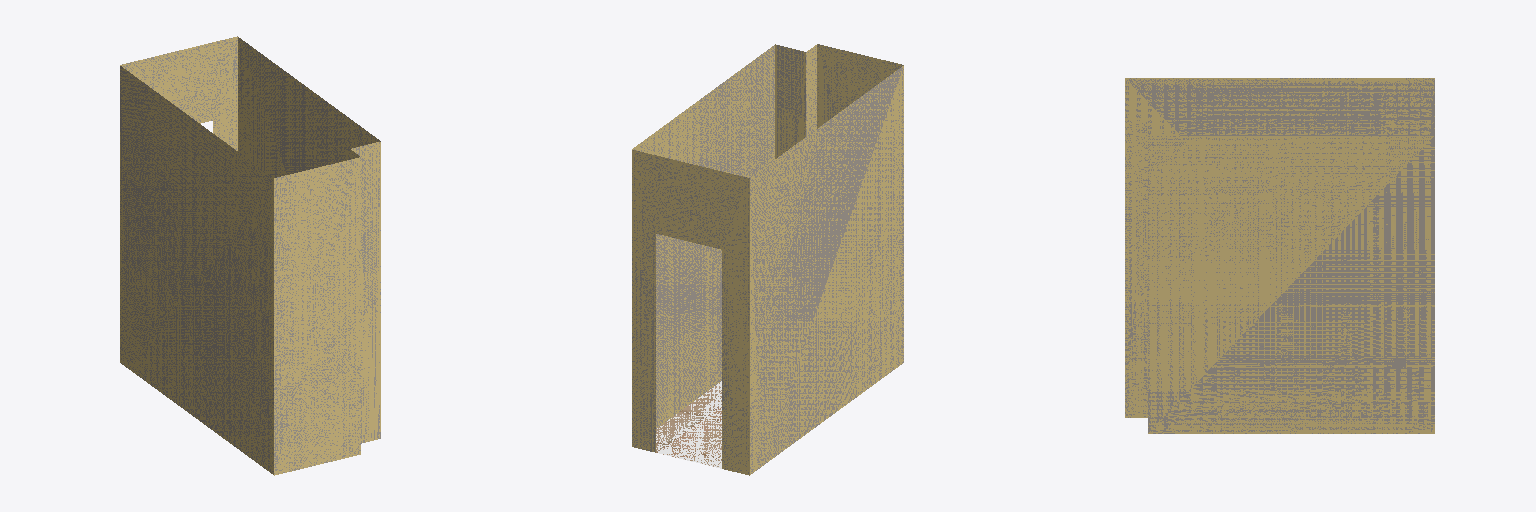
3 renders of one model, left to right at view 1: azimuth 30°, elevation 25°; view 2: azimuth 150°, elevation 25°; view 3: azimuth 270°, elevation 25°, orthographic.
Parts seen in each view (by area): view 1: Mesh1 CUA024 Model; view 2: Mesh1 CUA024 Model; view 3: Mesh1 CUA024 Model.
Boxes of the visible parts, box(x1,y1,x2,y2) form: Mesh1 CUA024 Model: box(120, 36, 380, 475); Mesh1 CUA024 Model: box(632, 44, 903, 475); Mesh1 CUA024 Model: box(1125, 78, 1434, 433).
Bounding box in the file's own units: 1.23 × 2.98 × 2.8.
4 materials, 1 textured.